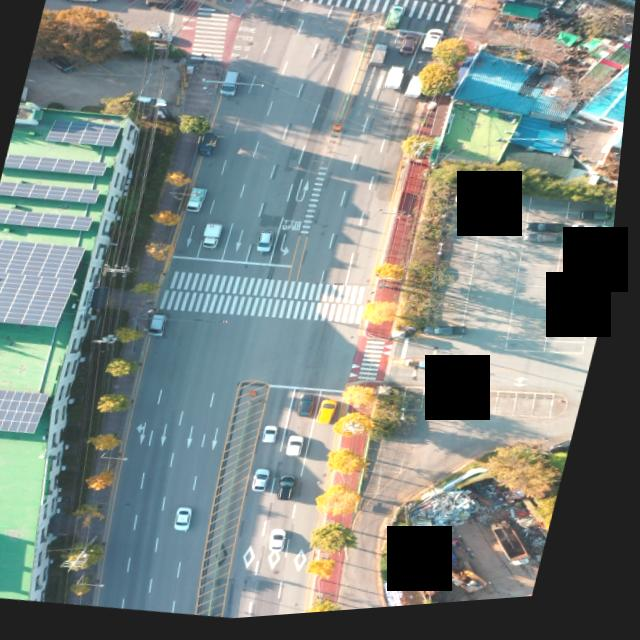car: (44, 54, 80, 75), (530, 237, 571, 255), (222, 71, 246, 101), (533, 225, 573, 243), (322, 401, 346, 431), (144, 0, 188, 15), (565, 283, 603, 300), (432, 330, 470, 347), (582, 217, 621, 233), (136, 94, 172, 111), (533, 235, 571, 251), (565, 294, 603, 310), (575, 242, 613, 258), (562, 304, 600, 320), (572, 251, 610, 267), (579, 228, 616, 244), (424, 33, 446, 59), (458, 198, 490, 215), (571, 261, 607, 276), (286, 480, 307, 505), (154, 313, 175, 338), (568, 274, 602, 289), (263, 471, 284, 495), (186, 508, 206, 533), (294, 438, 315, 461), (146, 30, 178, 45), (306, 397, 324, 422), (402, 40, 422, 62), (279, 533, 298, 556), (262, 234, 281, 257), (271, 429, 288, 448), (60, 0, 101, 3)
medium_truck: (489, 522, 557, 578)
small_truck: (385, 69, 410, 97), (199, 134, 224, 161), (190, 189, 214, 217), (205, 225, 229, 253), (387, 9, 409, 36), (406, 79, 428, 104), (371, 47, 392, 72)
